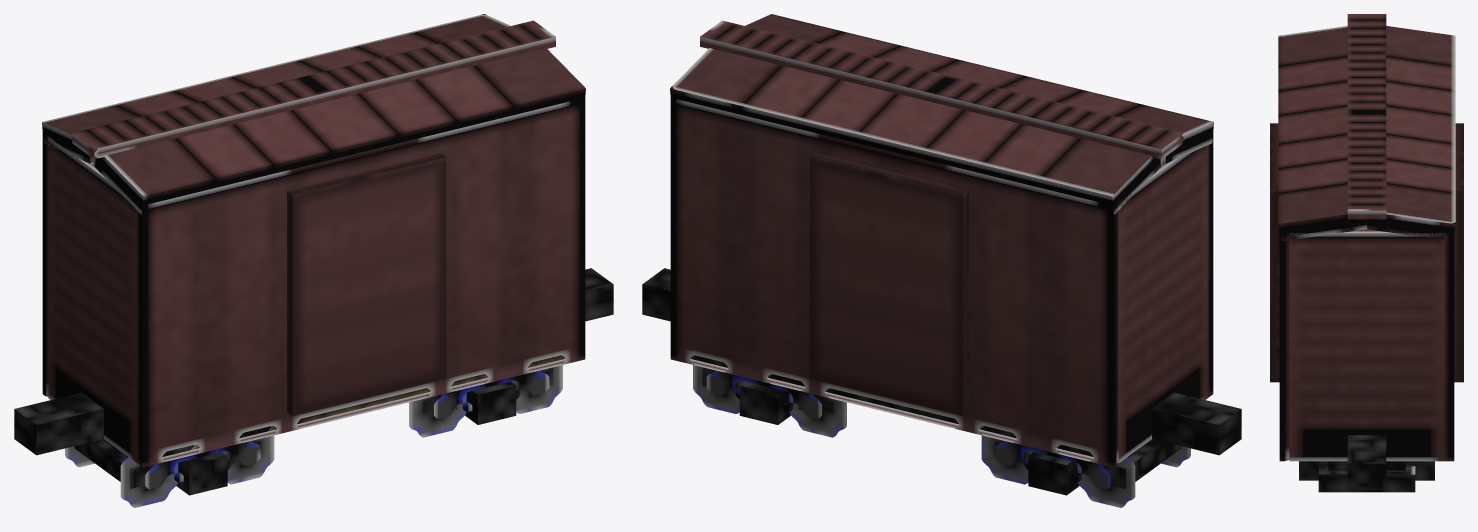
The model's file is boxcar_us.obj.
The picture shows the model from 3 angles, left to right: view 1: azimuth 30°, elevation 25°; view 2: azimuth 150°, elevation 25°; view 3: azimuth 270°, elevation 25°; orthographic projection. The views are drawn at different scales.
Visible parts, largest first — view 1: box20, box18, box6, box21, box7, box0, box25, box23, box2, box19, box8, box12 (+3 smaller); view 2: box19, box17, box0, box21, box7, box6, box25, box23, box2, box20, box, box13 (+3 smaller); view 3: box22, box6, box0, box7, box19, box20, box17, box18, box1, box3, box8, box (+1 smaller).
Boxes of the visible parts, x1=… form: box20: x1=137, y1=98, x2=585, y2=467; box18: x1=287, y1=153, x2=446, y2=415; box6: x1=92, y1=48, x2=585, y2=214; box21: x1=48, y1=137, x2=137, y2=462; box7: x1=72, y1=20, x2=555, y2=159; box0: x1=42, y1=14, x2=510, y2=164; box25: x1=65, y1=365, x2=562, y2=507; box23: x1=14, y1=392, x2=103, y2=455; box2: x1=145, y1=370, x2=549, y2=489; box19: x1=42, y1=133, x2=48, y2=396; box8: x1=465, y1=381, x2=516, y2=424; box12: x1=176, y1=452, x2=227, y2=495; box19: x1=670, y1=98, x2=1118, y2=467; box17: x1=809, y1=153, x2=968, y2=415; box0: x1=670, y1=48, x2=1163, y2=214; box21: x1=1117, y1=145, x2=1207, y2=463; box7: x1=700, y1=20, x2=1183, y2=159; box6: x1=745, y1=14, x2=1213, y2=164; box25: x1=693, y1=365, x2=1190, y2=507; box23: x1=1152, y1=392, x2=1241, y2=455; box2: x1=706, y1=370, x2=1110, y2=489; box20: x1=1207, y1=133, x2=1213, y2=397; box: x1=739, y1=381, x2=790, y2=424; box13: x1=1028, y1=452, x2=1079, y2=495; box22: x1=1289, y1=229, x2=1444, y2=461; box6: x1=1278, y1=26, x2=1367, y2=240; box0: x1=1367, y1=26, x2=1455, y2=240; box7: x1=1347, y1=14, x2=1386, y2=219; box19: x1=1444, y1=233, x2=1454, y2=461; box20: x1=1279, y1=233, x2=1289, y2=461; box17: x1=1454, y1=123, x2=1463, y2=382; box18: x1=1270, y1=123, x2=1279, y2=382; box1: x1=1347, y1=435, x2=1386, y2=489; box3: x1=1318, y1=466, x2=1415, y2=492; box8: x1=1299, y1=461, x2=1328, y2=480; box: x1=1405, y1=461, x2=1434, y2=480.
Size of the model in its own units: 3.75 by 2.19 by 1.25.
1 material, 1 textured.
